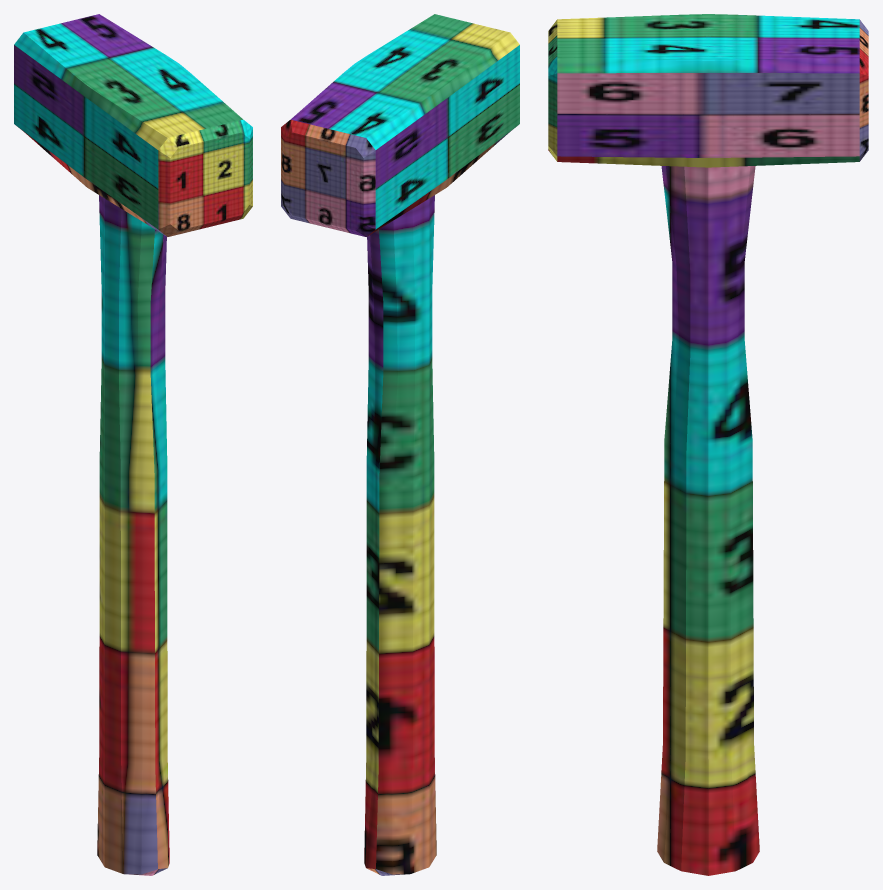
The model's file is EngineerHammer.dae.
The picture shows the model from 3 angles, left to right: view 1: azimuth 30°, elevation 25°; view 2: azimuth 150°, elevation 25°; view 3: azimuth 270°, elevation 25°; orthographic projection. The views are drawn at different scales.
Visible parts, largest first — view 1: EngHammer_mesh; view 2: EngHammer_mesh; view 3: EngHammer_mesh.
Part boxes in pixels (x1,y1,x2,y2): EngHammer_mesh: (14, 14, 252, 875); EngHammer_mesh: (281, 14, 519, 875); EngHammer_mesh: (548, 14, 868, 875).
Bounding box in the file's own units: 0.0358 × 0.2775 × 0.0976.
